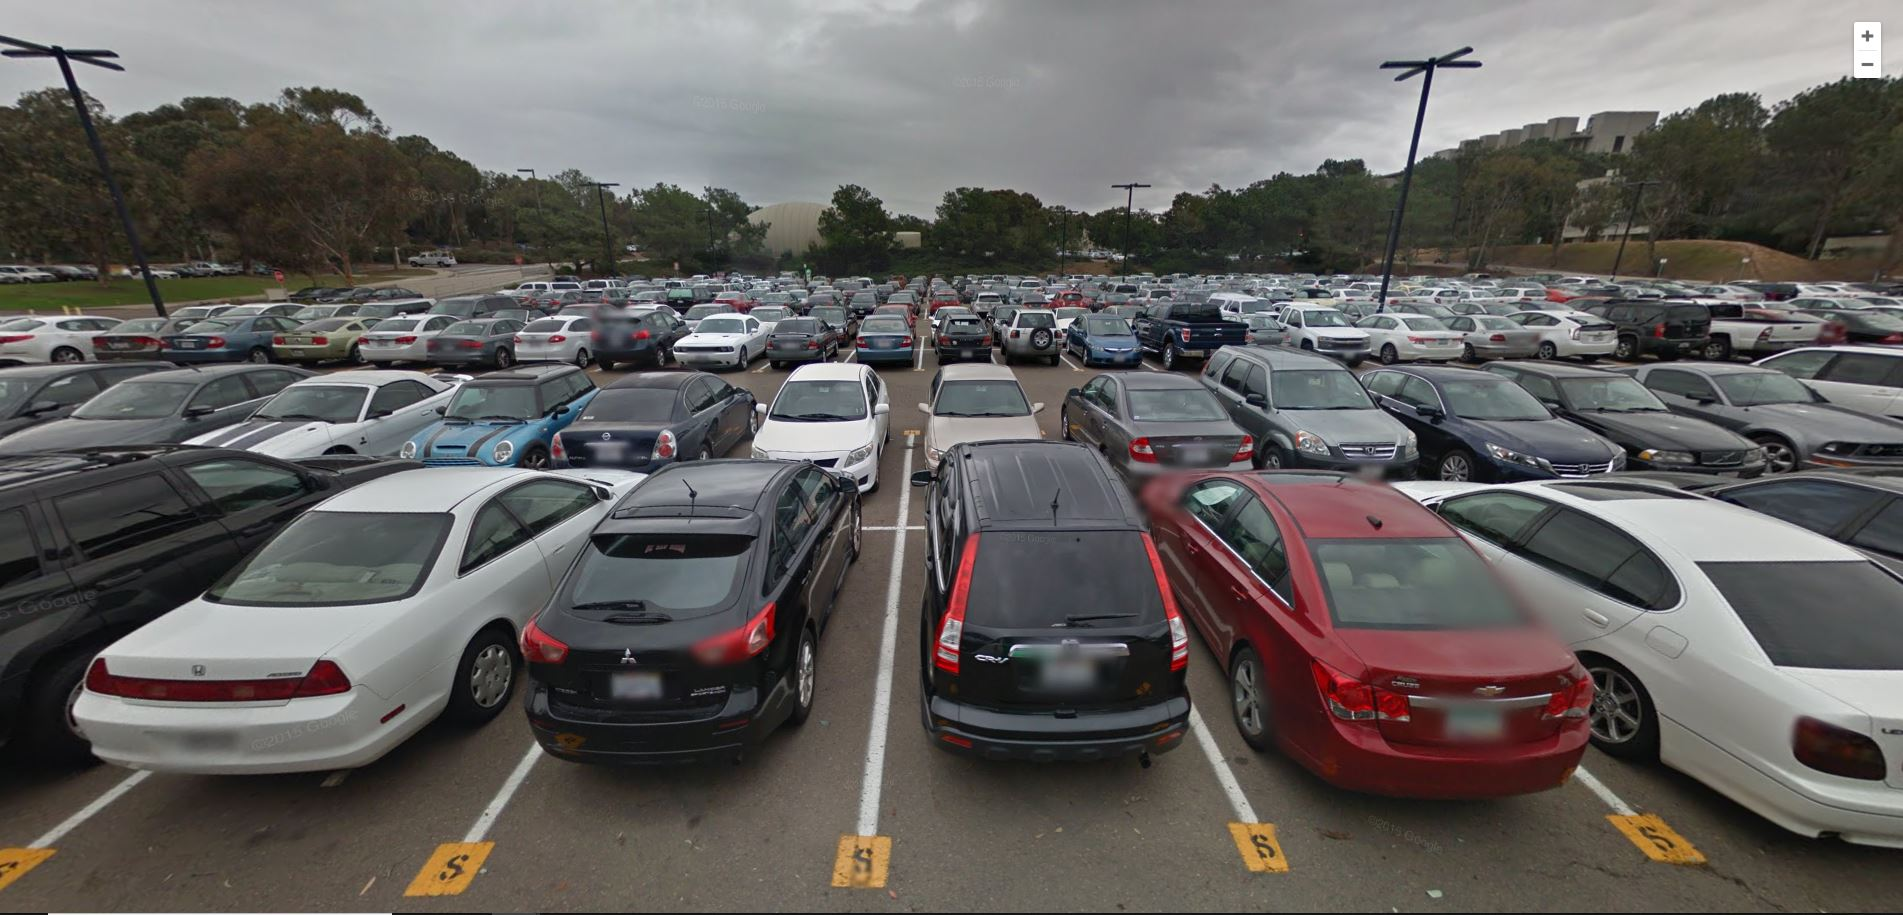car: (75, 441, 651, 825), (1394, 468, 1903, 854), (1138, 471, 1591, 812), (506, 456, 879, 799), (1, 426, 408, 735), (915, 456, 1219, 814), (178, 368, 493, 464), (544, 368, 761, 468), (1056, 373, 1249, 485), (752, 359, 891, 487), (398, 371, 600, 454), (919, 366, 1056, 483), (1137, 300, 1252, 368), (1261, 297, 1371, 364), (670, 307, 772, 374), (1354, 309, 1466, 363), (1444, 309, 1543, 366), (1061, 306, 1138, 366), (996, 301, 1066, 364), (763, 309, 837, 364), (854, 309, 918, 363), (931, 309, 994, 352)
